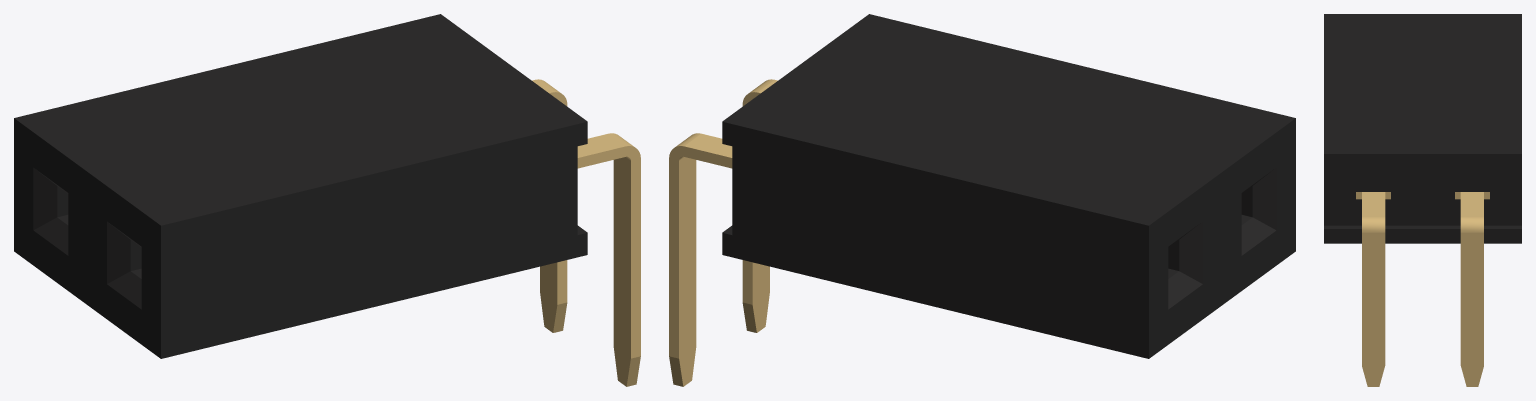
Rendered from kc-pinsocket_1x02_p2.54mm_horizontal.glb.
3 renders of one model, left to right at view 1: azimuth 30°, elevation 25°; view 2: azimuth 150°, elevation 25°; view 3: azimuth 270°, elevation 25°, orthographic. The views are drawn at different scales.
Visible parts, largest first — view 1: 0_0_0_0, 0.75_0.5_0.25_0.9; view 2: 0_0_0_0, 0.75_0.5_0.25_0.9; view 3: 0_0_0_0, 0.75_0.5_0.25_0.9.
Boxes of the visible parts, box(x1,y1,x2,y2) form: 0_0_0_0: box(14, 14, 587, 358); 0.75_0.5_0.25_0.9: box(532, 79, 640, 386); 0_0_0_0: box(722, 14, 1295, 358); 0.75_0.5_0.25_0.9: box(669, 79, 777, 386); 0_0_0_0: box(1324, 14, 1521, 243); 0.75_0.5_0.25_0.9: box(1356, 192, 1489, 386).
Size of the model in its own units: 1.01 by 0.584 by 0.508.
